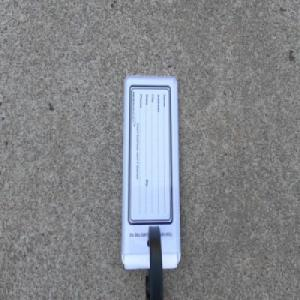LuggageTag: (120, 73, 181, 300)
